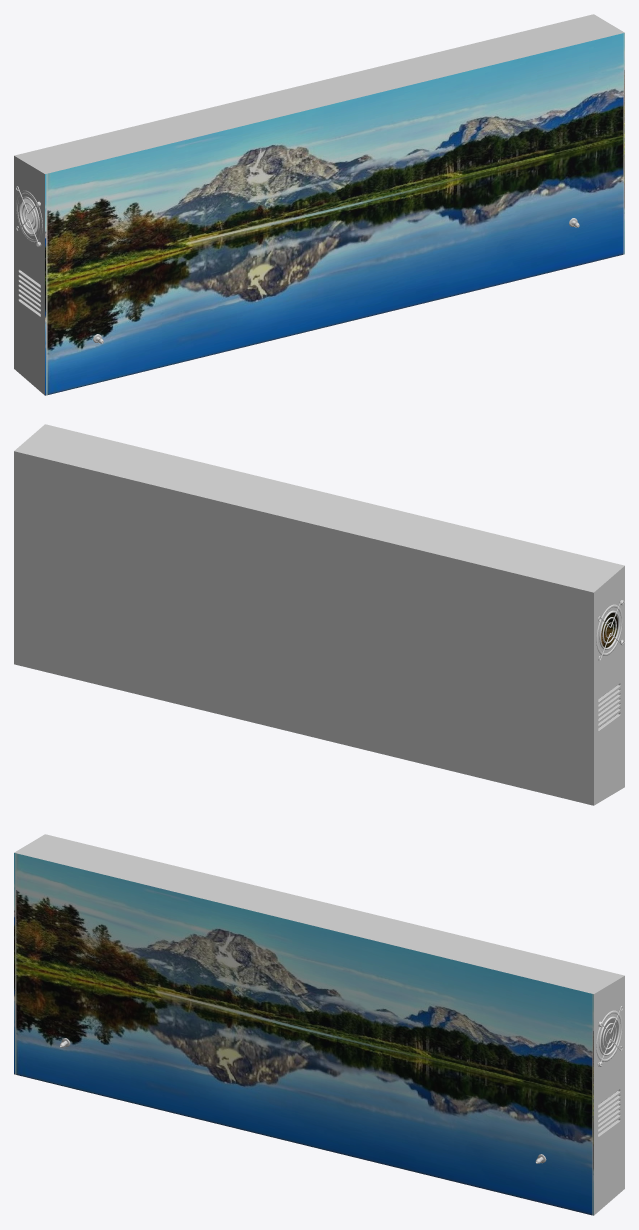
File: ALKES_AS.01.glb
3 renders of one model, top to bottom at view 1: azimuth 30°, elevation 25°; view 2: azimuth 150°, elevation 25°; view 3: azimuth 330°, elevation 25°, orthographic.
Visible parts, largest first — view 1: Cube; view 2: Cube; view 3: Cube.
Part boxes in pixels (<box>): Cube: <box>14,14,624,395</box>; Cube: <box>14,424,624,805</box>; Cube: <box>14,834,624,1215</box>.
Size of the model in its own units: 1.33 by 0.4797 by 0.143.
Materials: 3 (1 with a texture image).
